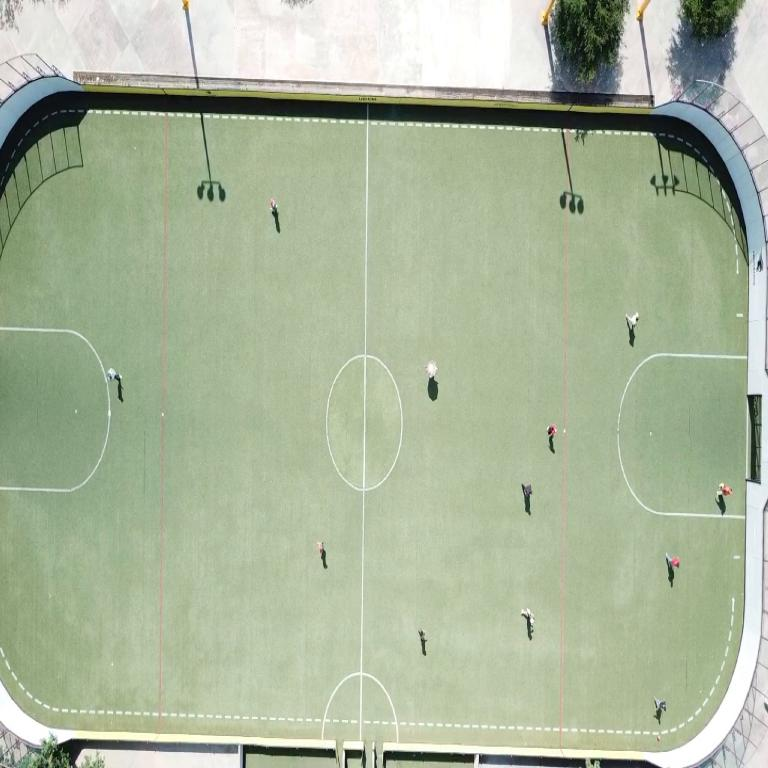AC: (617, 353, 746, 517), (0, 326, 110, 492), (722, 513, 745, 518)
B: (656, 733, 661, 740)
MC: (359, 354, 365, 672), (364, 135, 368, 351), (359, 674, 362, 735)
P: (521, 608, 535, 639), (717, 484, 732, 499), (654, 698, 666, 716), (418, 629, 426, 655), (626, 312, 638, 329), (425, 361, 437, 378), (666, 554, 679, 568), (107, 368, 121, 381), (547, 424, 556, 439), (317, 541, 324, 558), (524, 485, 532, 499), (270, 198, 277, 214)
